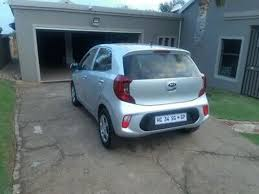licence-plate: (154, 111, 187, 124)
